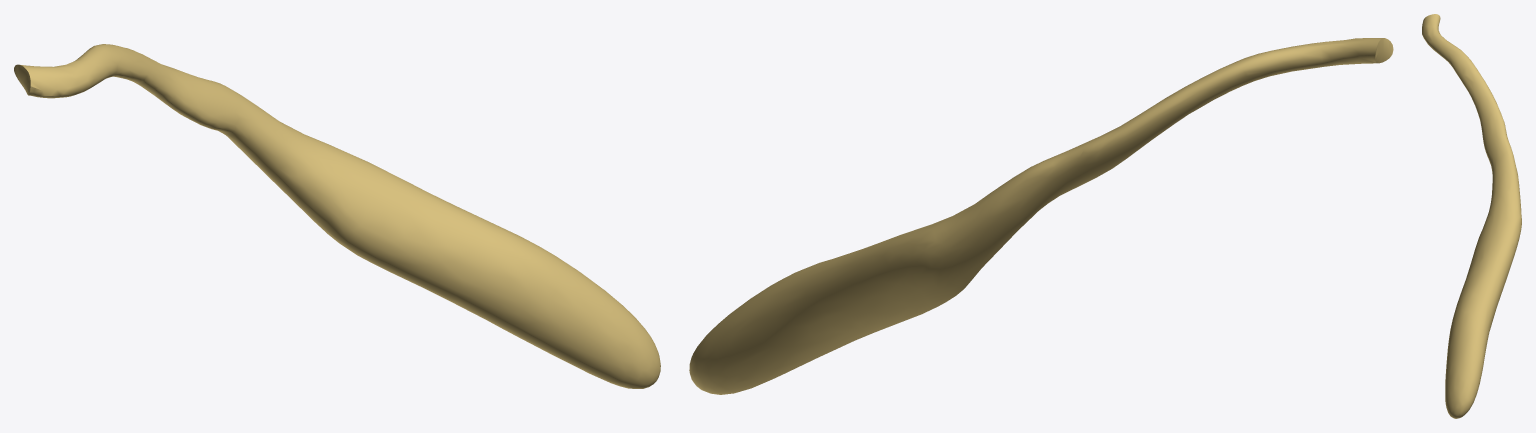
3 views of the same model, side by side, from view 1: azimuth 30°, elevation 25°; view 2: azimuth 150°, elevation 25°; view 3: azimuth 270°, elevation 25° (orthographic). The views are drawn at different scales.
Parts seen in each view (by area): view 1: 左侧绒球脚; view 2: 左侧绒球脚; view 3: 左侧绒球脚.
Part boxes in pixels (x1,y1,x2,y2): 左侧绒球脚: (14,44,660,388); 左侧绒球脚: (689,38,1393,394); 左侧绒球脚: (1422,14,1521,418).
Size of the model in its own units: 0.0491 by 0.0348 by 0.0128.
